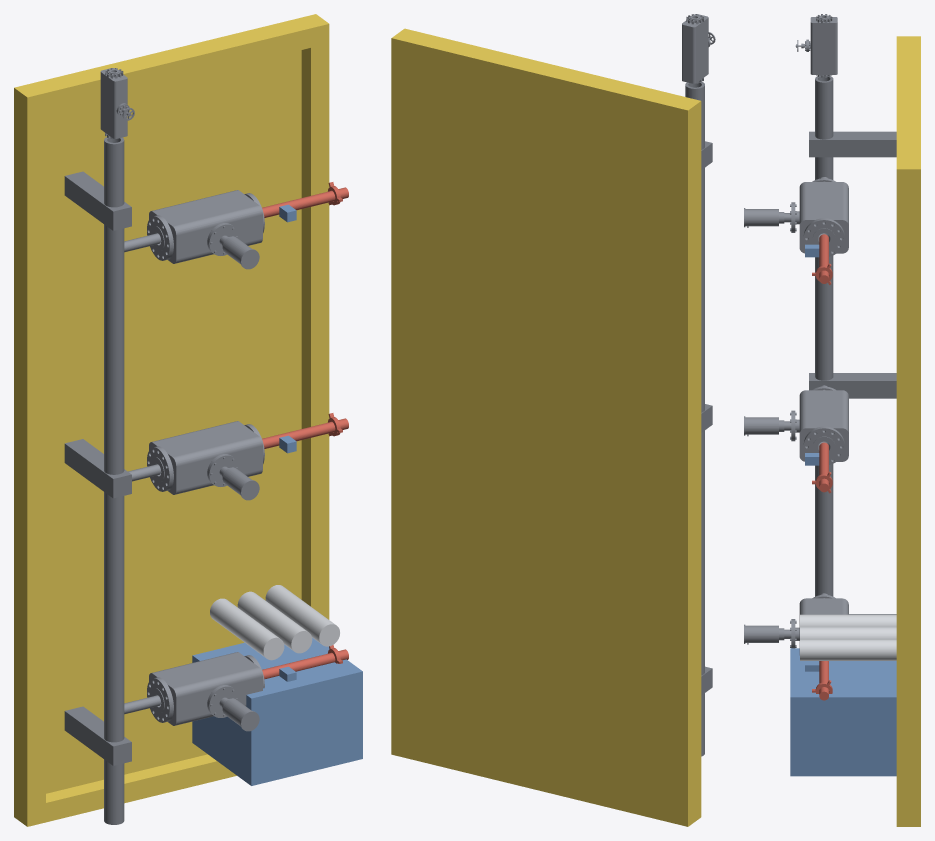
Rendered from WH-ZIPPER.glb.
The picture shows the model from 3 angles, left to right: view 1: azimuth 30°, elevation 25°; view 2: azimuth 150°, elevation 25°; view 3: azimuth 270°, elevation 25°; orthographic projection. The views are drawn at different scales.
Parts seen in each view (by area): view 1: WH-ZIPPER-SKID, WH-ZIPPER-VALVE, WH-ZIPPER-INLETHEADER, WH-ZIPPER-HPU, WH-ZIPPER-ACCUMULATOR, WH-ZIPPER-OUTLET, WH-ZIPPER-BLEEDVALVE, WH-ZIPPER-TRANSDUCER; view 2: WH-ZIPPER-SKID, WH-ZIPPER-INLETHEADER, WH-ZIPPER-BLEEDVALVE; view 3: WH-ZIPPER-SKID, WH-ZIPPER-HPU, WH-ZIPPER-VALVE, WH-ZIPPER-INLETHEADER, WH-ZIPPER-ACCUMULATOR, WH-ZIPPER-BLEEDVALVE, WH-ZIPPER-OUTLET, WH-ZIPPER-TRANSDUCER.
Part boxes in pixels (<box>): WH-ZIPPER-SKID: <box>14,14,329,826</box>; WH-ZIPPER-VALVE: <box>124,190,264,731</box>; WH-ZIPPER-INLETHEADER: <box>64,137,131,824</box>; WH-ZIPPER-HPU: <box>192,637,362,785</box>; WH-ZIPPER-ACCUMULATOR: <box>210,585,339,660</box>; WH-ZIPPER-OUTLET: <box>262,182,348,679</box>; WH-ZIPPER-BLEEDVALVE: <box>100,68,134,138</box>; WH-ZIPPER-TRANSDUCER: <box>279,204,296,681</box>; WH-ZIPPER-SKID: <box>391,28,701,826</box>; WH-ZIPPER-INLETHEADER: <box>685,82,712,756</box>; WH-ZIPPER-BLEEDVALVE: <box>682,14,715,83</box>; WH-ZIPPER-SKID: <box>896,36,920,826</box>; WH-ZIPPER-HPU: <box>790,648,896,776</box>; WH-ZIPPER-VALVE: <box>744,177,848,655</box>; WH-ZIPPER-INLETHEADER: <box>809,76,896,614</box>; WH-ZIPPER-ACCUMULATOR: <box>800,614,896,660</box>; WH-ZIPPER-BLEEDVALVE: <box>795,14,837,77</box>; WH-ZIPPER-OUTLET: <box>812,234,832,700</box>; WH-ZIPPER-TRANSDUCER: <box>805,244,819,671</box>.
Size of the model in its own units: 3.3 by 8.08 by 1.86.
